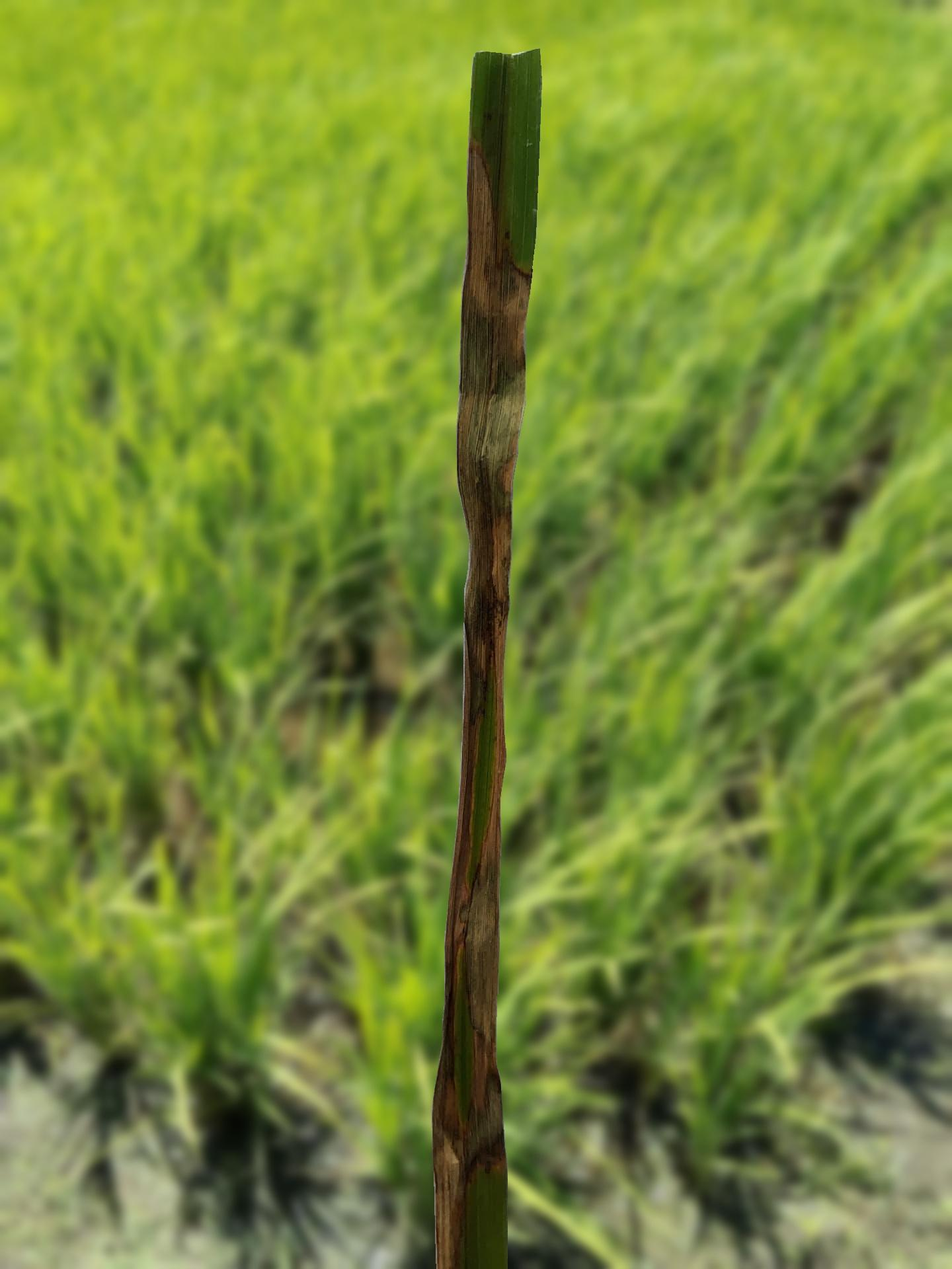BLB: (433, 131, 532, 1268)
LEAF: (432, 49, 542, 1268)
